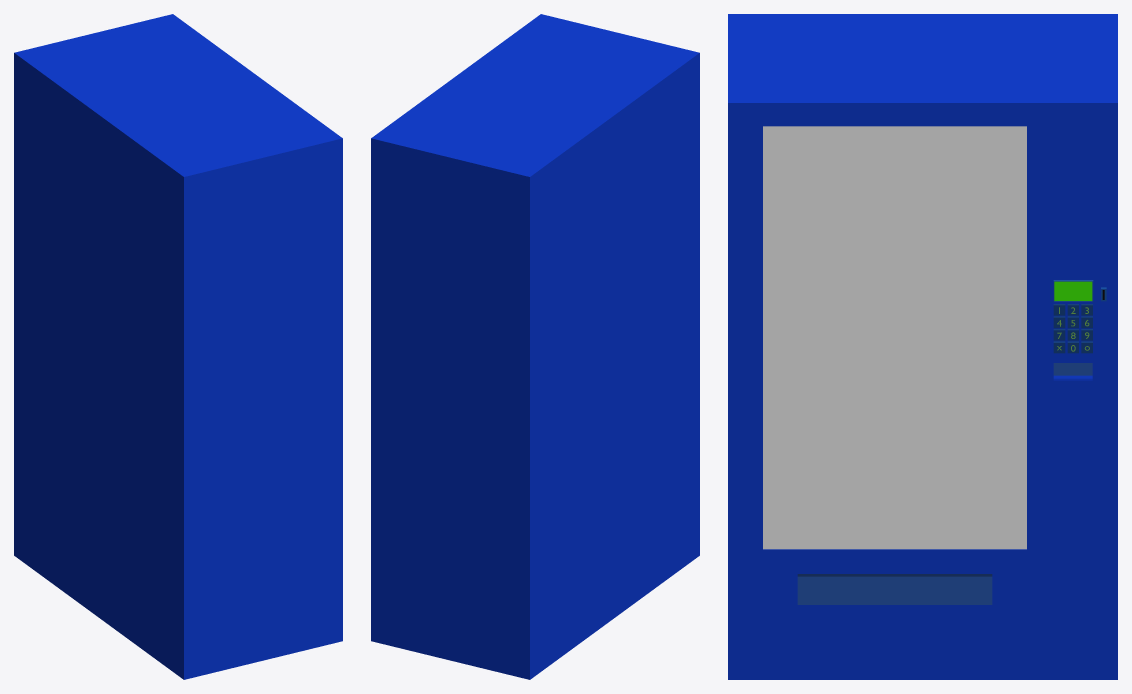
File: vending.glb
The picture shows the model from 3 angles, left to right: view 1: azimuth 30°, elevation 25°; view 2: azimuth 150°, elevation 25°; view 3: azimuth 270°, elevation 25°; orthographic projection. The views are drawn at different scales.
Parts seen in each view (by area): view 1: Body; view 2: Body; view 3: Body, Glass, Screen.
Boxes of the visible parts, <box> form: Body: <box>14,14,342,679</box>; Body: <box>371,14,699,679</box>; Body: <box>728,14,1117,679</box>; Glass: <box>763,126,1026,549</box>; Screen: <box>1053,280,1093,301</box>.
Size of what is drawn, in the model's own units: 2.2 by 6.33 by 3.88.
